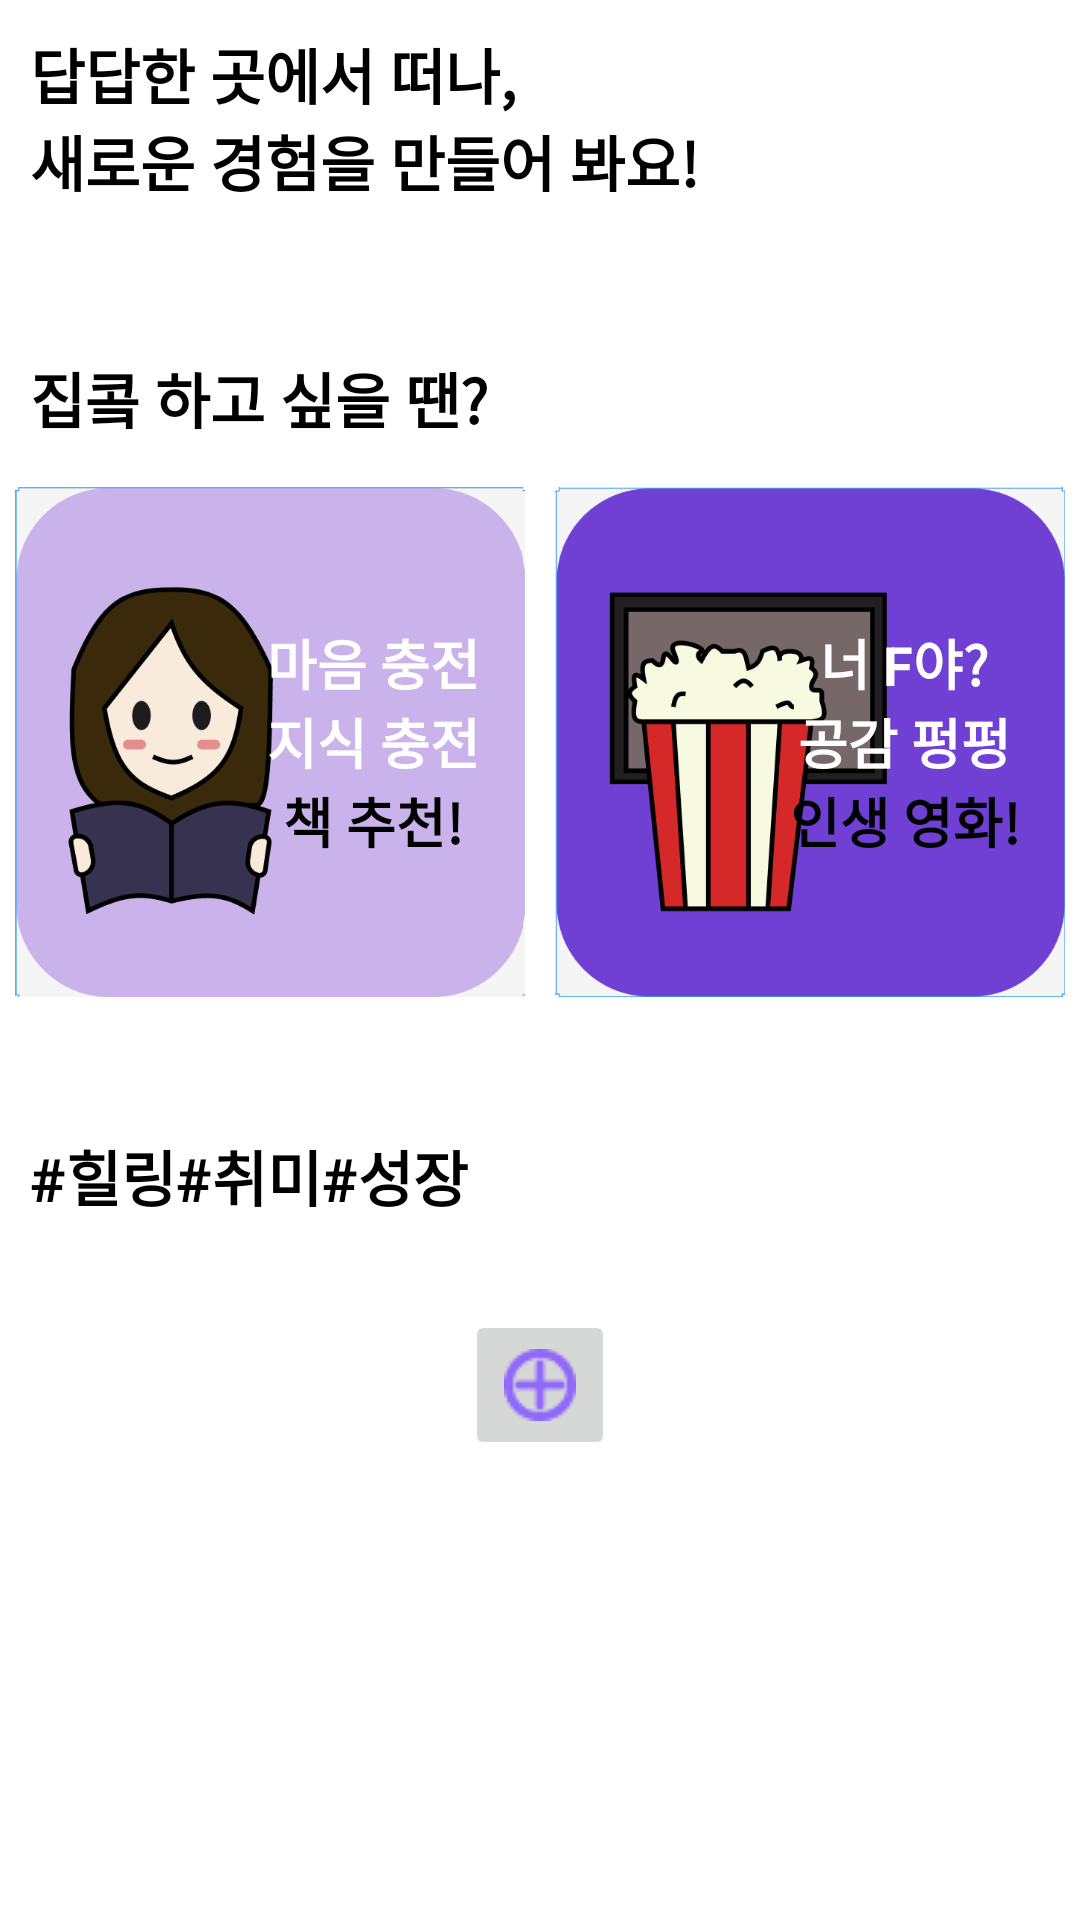

Icon bounding boxes for this 1080px x 1920px phone screenshot, format bbox=(x1, y1, x2, y2):
extrabtn plus: bbox=(477, 1328, 603, 1442)
